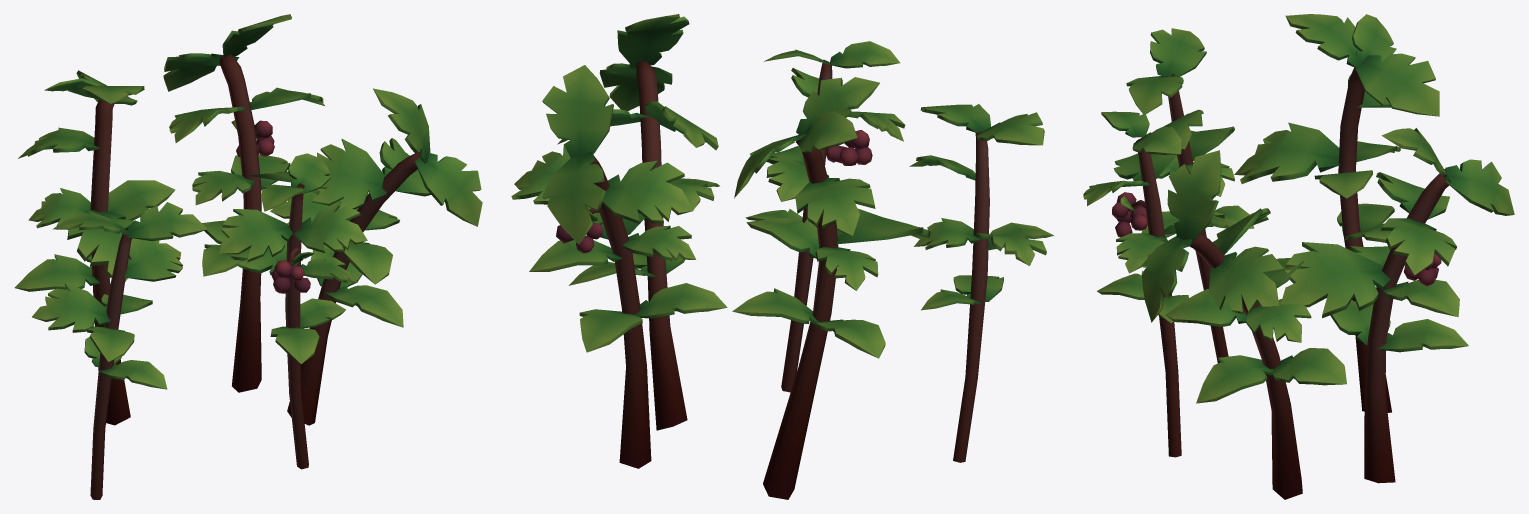
File: SM_Plant_Raspberry_Lv2.fbx
3 views of the same model, side by side, from view 1: azimuth 30°, elevation 25°; view 2: azimuth 150°, elevation 25°; view 3: azimuth 270°, elevation 25° (orthographic). The views are drawn at different scales.
Parts seen in each view (by area): view 1: SM_Plant_Raspberry_Lv2; view 2: SM_Plant_Raspberry_Lv2; view 3: SM_Plant_Raspberry_Lv2.
Boxes of the visible parts, x1=… form: SM_Plant_Raspberry_Lv2: x1=14, y1=14, x2=482, y2=499; SM_Plant_Raspberry_Lv2: x1=511, y1=14, x2=1053, y2=499; SM_Plant_Raspberry_Lv2: x1=1083, y1=14, x2=1514, y2=499.
Size of the model in its own units: 42.17 by 35.42 by 36.09.
